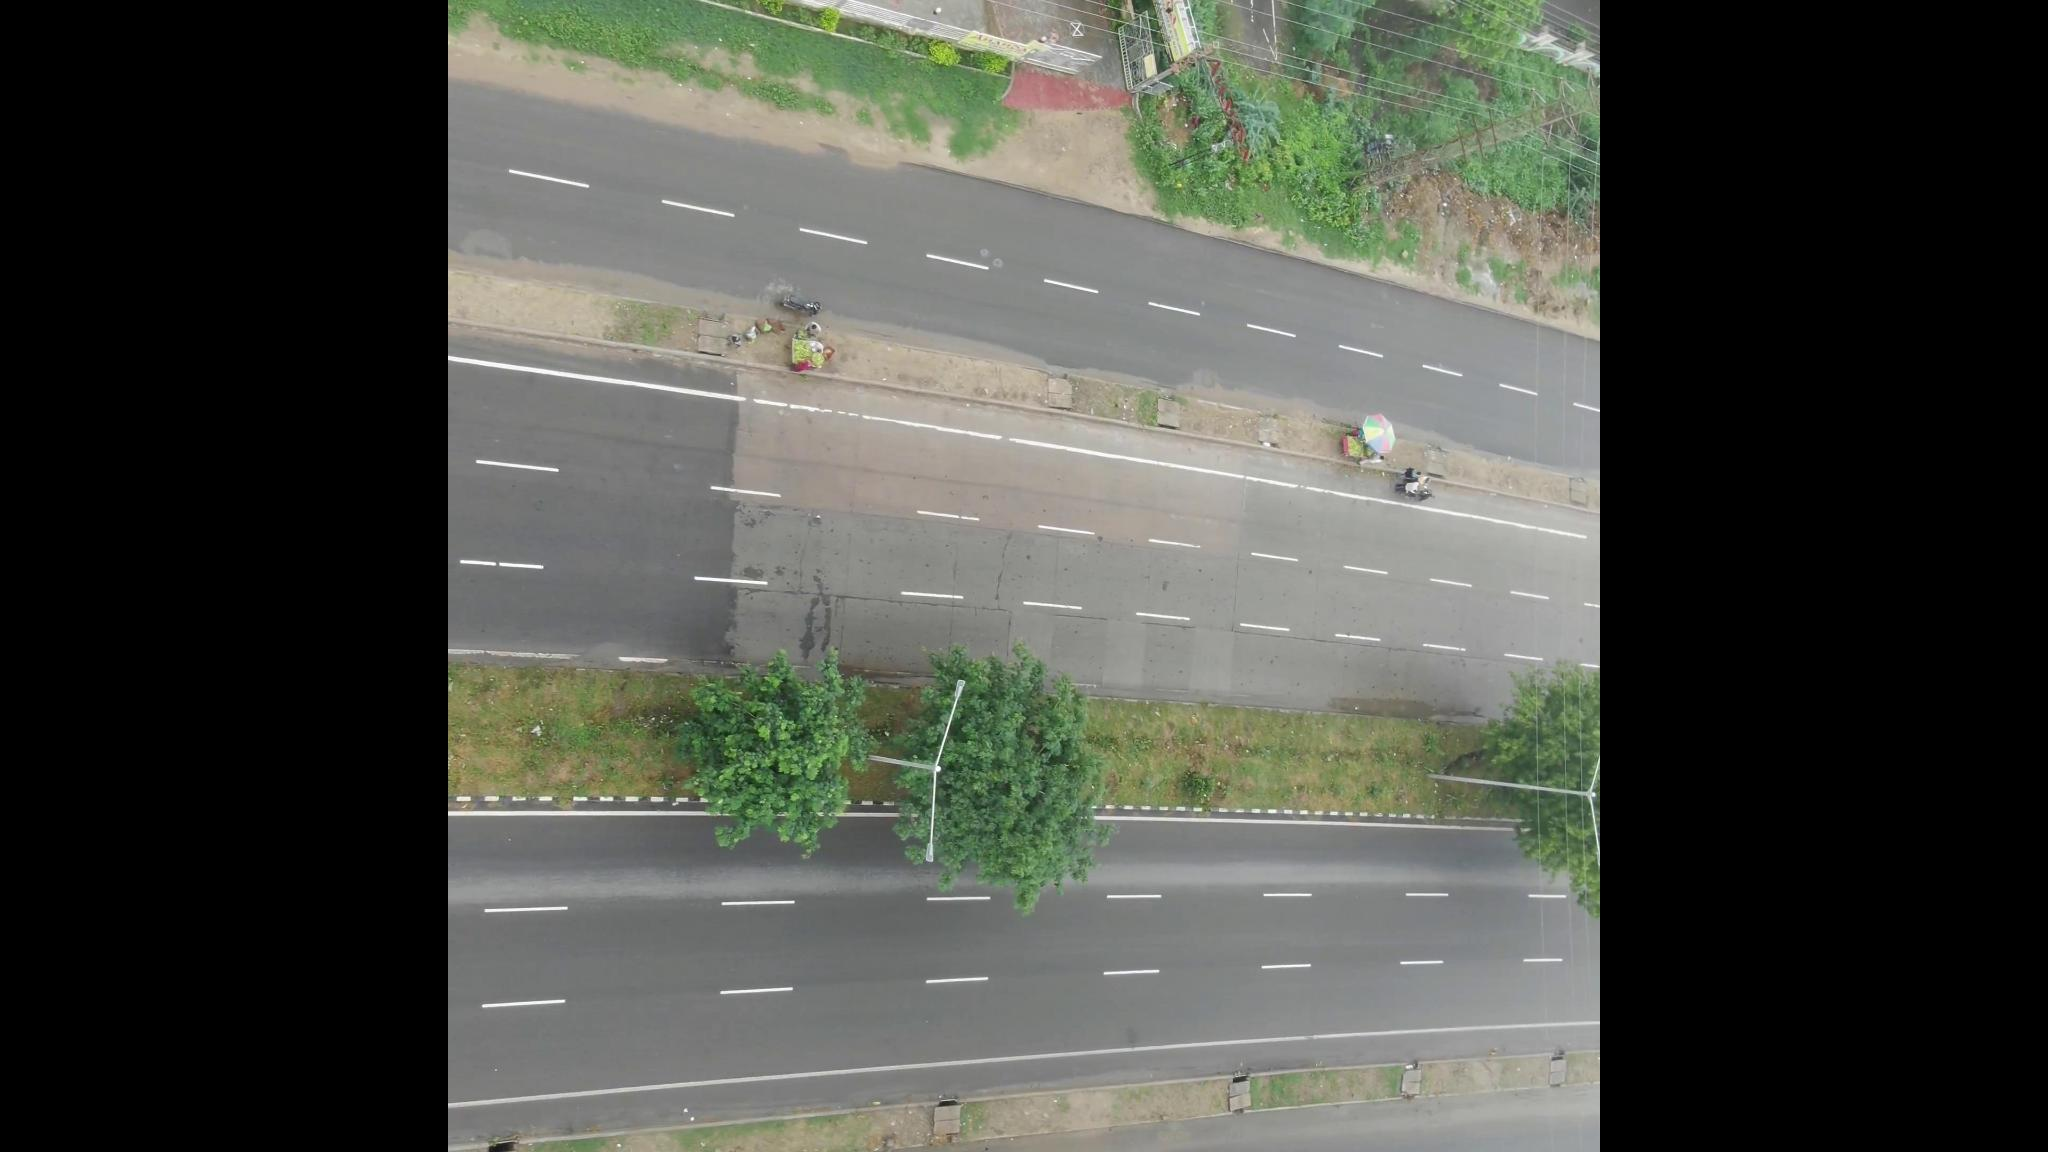Cracks: (989, 519, 1030, 679)
